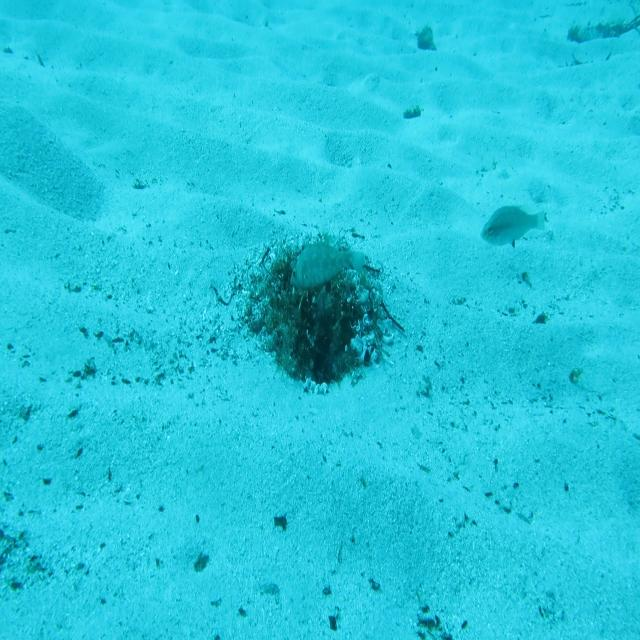INSF: (290, 240, 368, 294)
core_nest: (284, 254, 338, 294)
female: (480, 204, 548, 250)
nest: (233, 227, 398, 402)
vegetation: (416, 23, 436, 55), (402, 104, 420, 120), (272, 512, 288, 530)
